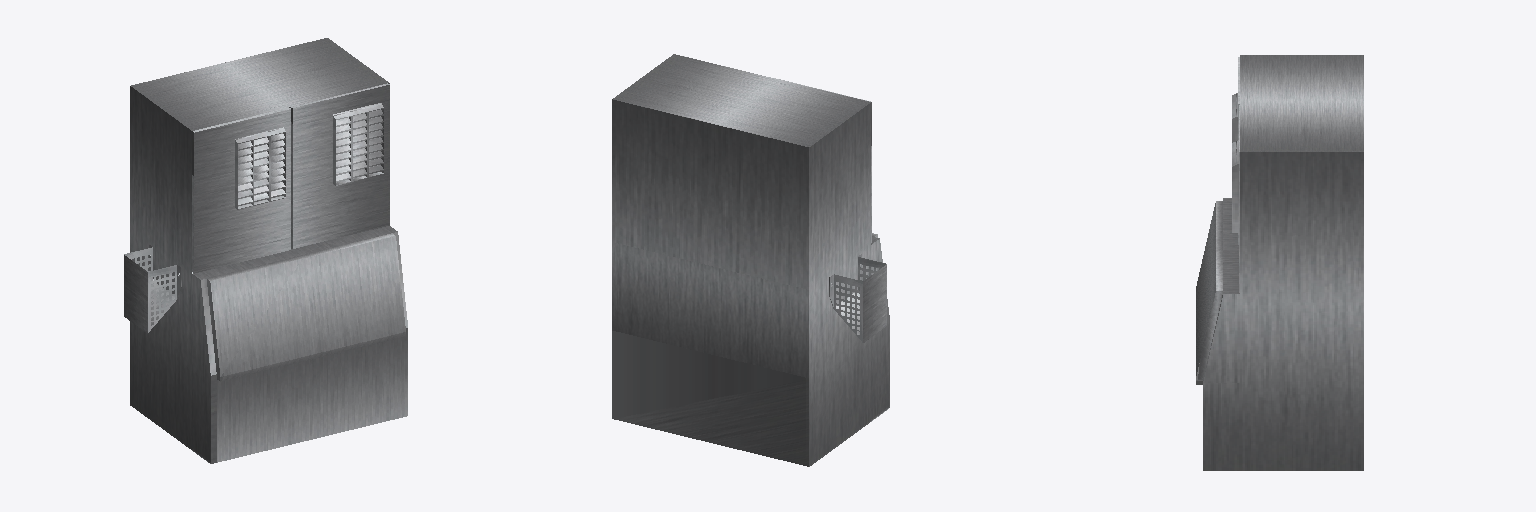
3 renders of one model, left to right at view 1: azimuth 30°, elevation 25°; view 2: azimuth 150°, elevation 25°; view 3: azimuth 270°, elevation 25°, orthographic.
Parts seen in each view (by area): view 1: ice_machine.obj; view 2: ice_machine.obj; view 3: ice_machine.obj.
Boxes of the visible parts, x1,y1,x2,y2 form: ice_machine.obj: [124, 38, 407, 463]; ice_machine.obj: [612, 54, 889, 466]; ice_machine.obj: [1196, 55, 1363, 470].
Bounding box in the file's own units: 5.14 × 6.9 × 3.3.
Materials: 1 (1 with a texture image).